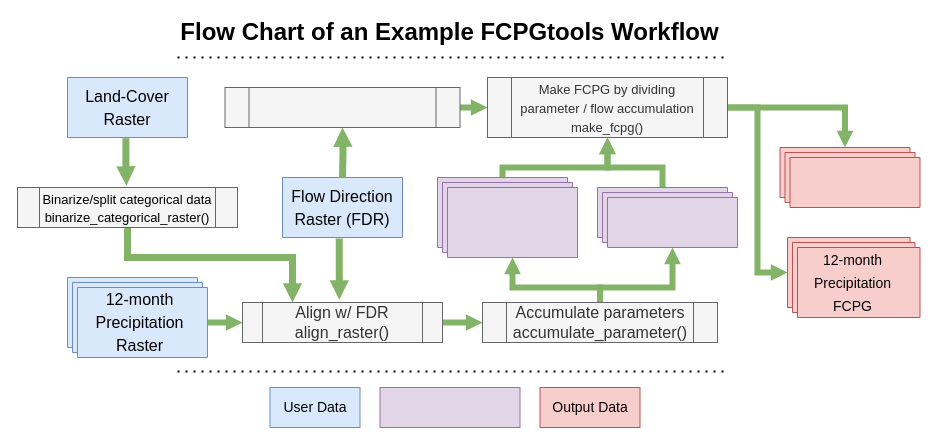
This 938x445 diagram has some shape labels left out. The shapes that lost their labels are listed below. From the top down, each one's centre as x and y in pixels, then its label:
At (x=342, y=107): "Make flow accumulation accumulate_flow()".
At (x=849, y=177): "Land cover classes FCPG".
At (x=507, y=217): "12-month Precipitation Accumulation".
At (x=667, y=217): "Land cover classes Accumulation".
At (x=449, y=407): "Intermediate FCPGtools product".
